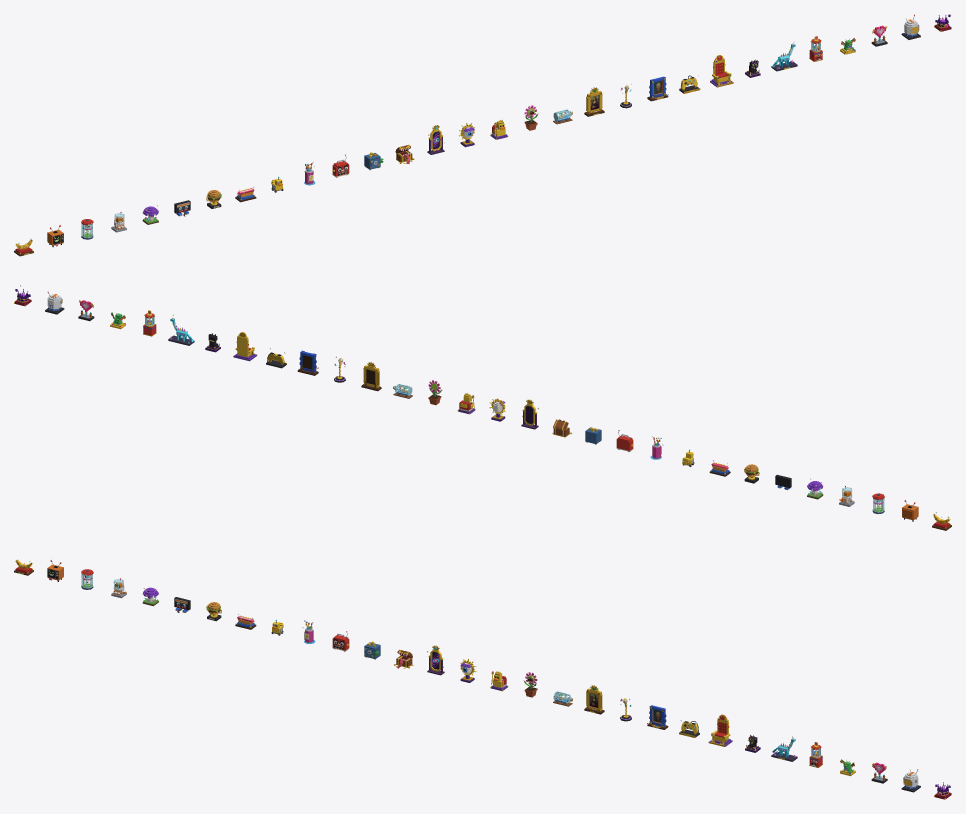
File: Art_Boss2_MadFinds.fbx
3 views of the same model, one above another, from view 1: azimuth 30°, elevation 25°; view 2: azimuth 150°, elevation 25°; view 3: azimuth 330°, elevation 25° (orthographic).
Size of the model in its own units: 177 by 4.87 by 3.25.
